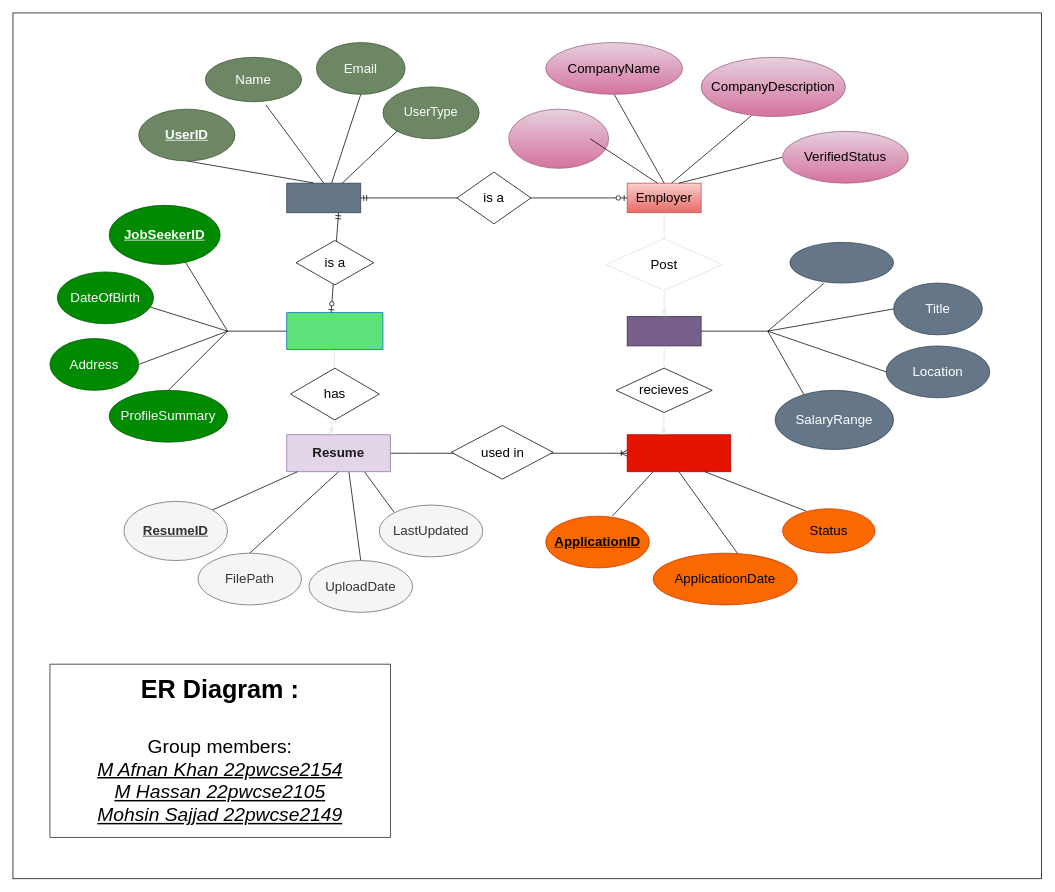
The diagram is 1055 pixels wide and 892 high, and some of its shapes have lost their labels. Each missing label, with the centre of its shape:
"Application" goes at pixel 678 453.
"EmployeeID" goes at pixel 558 138.
"Job" goes at pixel 663 331.
"JobID" goes at pixel 841 262.
"JobSeeker" goes at pixel 334 331.
"User" goes at pixel 323 197.
